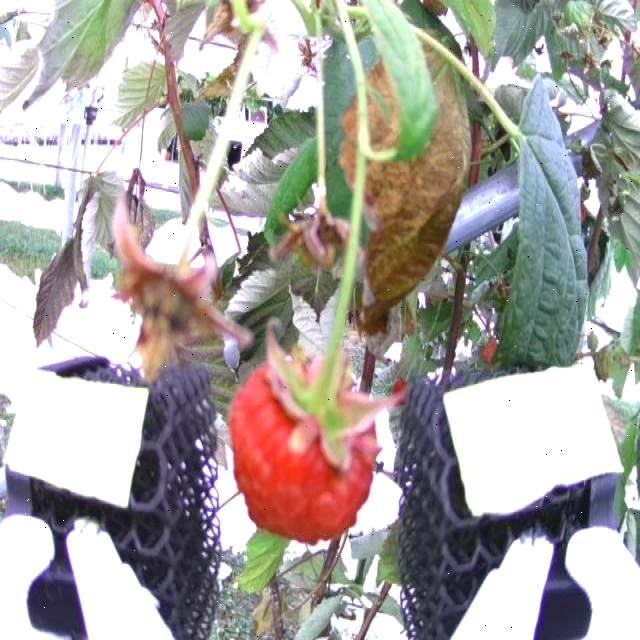Riped berries: (224, 338, 386, 545)
